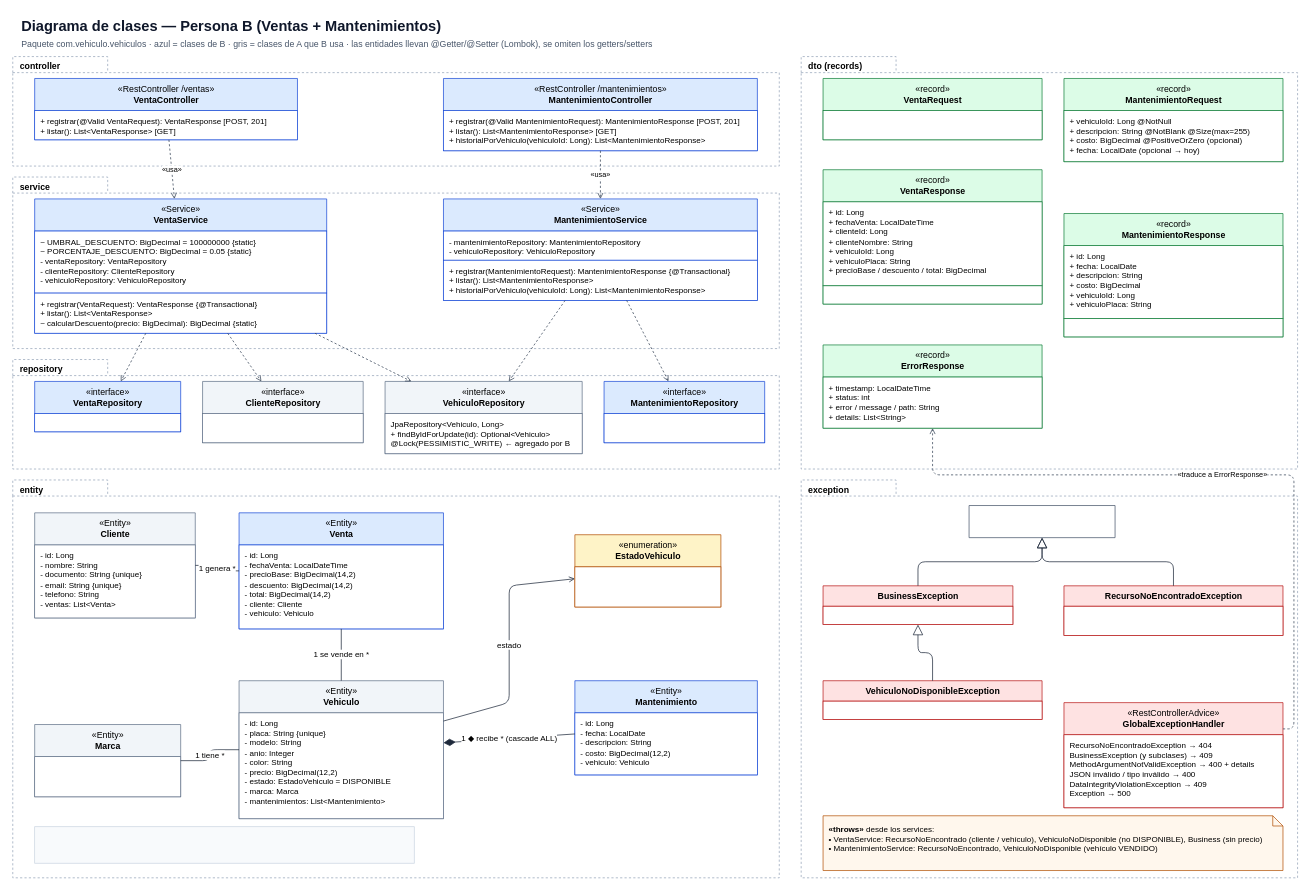
This 1313x891 diagram has some shape labels left out. Each missing label, with the centre of its shape:
+ (message: String) + (recurso: String, id: Object): (x=1173, y=620)
+ (vehiculoId: Long, estado: EstadoVehiculo): (x=932, y=709)
+ BusinessException(message: String): (x=917, y=615)
+ clienteId: Long @NotNull + vehiculoId: Long @NotNull: (x=932, y=125)
+ from(Mantenimiento): MantenimientoResponse {static}: (x=1173, y=327)
+ from(Venta): VentaResponse {static}: (x=932, y=294)
- id: Long - nombre: String {unique} - paisOrigen: String: (x=107, y=776)
DISPONIBLE VENDIDO EN_MANTENIMIENTO: (x=647, y=586)
JpaRepository<Cliente, Long> + findByEmail(String): (x=282, y=428)
JpaRepository<Mantenimiento, Long> + findByVehiculoId(Long): List: (x=684, y=428)
JpaRepository<Venta, Long>: (x=107, y=422)
Leyenda — asociación · ◆ composición · ▷ herencia · - - > dependencia «usa»: (x=224, y=844)
«java.lang» RuntimeException: (x=1041, y=521)
